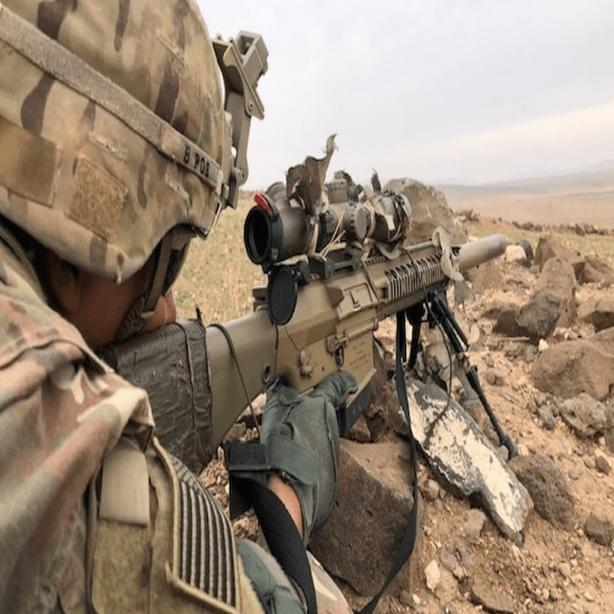Firearm: (113, 149, 561, 486)
